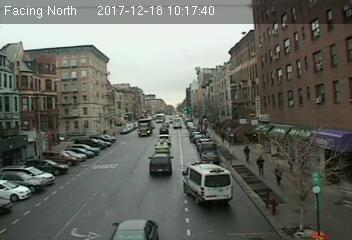car: (110, 219, 156, 240), (149, 154, 171, 173), (200, 150, 219, 161), (155, 141, 170, 153)
pedestrian: (273, 162, 284, 187), (256, 155, 266, 177), (241, 145, 251, 166)
police: (181, 160, 234, 208)
truck: (136, 120, 151, 136)
